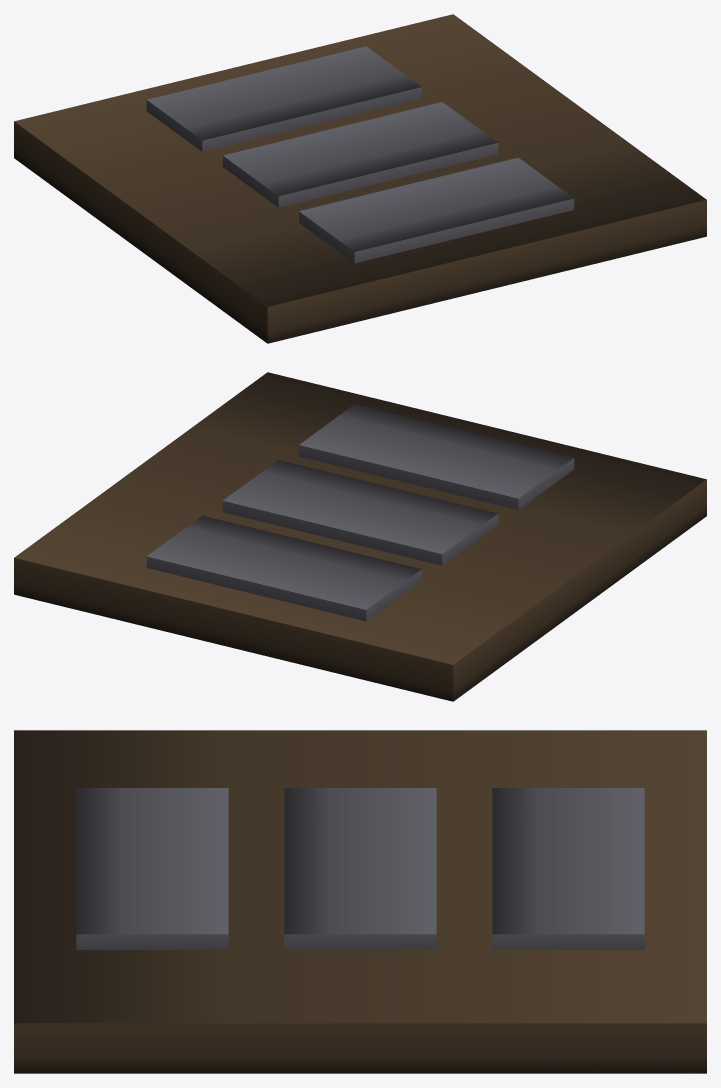
Rendered from path_straight.glb.
The picture shows the model from 3 angles, top to bottom: view 1: azimuth 30°, elevation 25°; view 2: azimuth 150°, elevation 25°; view 3: azimuth 270°, elevation 25°; orthographic projection. The views are drawn at different scales.
Parts seen in each view (by area): view 1: path_straight; view 2: path_straight; view 3: path_straight.
Boxes of the visible parts, bbox=[...] form: path_straight: bbox=[14, 14, 706, 343]; path_straight: bbox=[14, 372, 706, 701]; path_straight: bbox=[14, 730, 706, 1073].
Size of the model in its own units: 1 by 0.105 by 1.
1 material, 1 textured.
